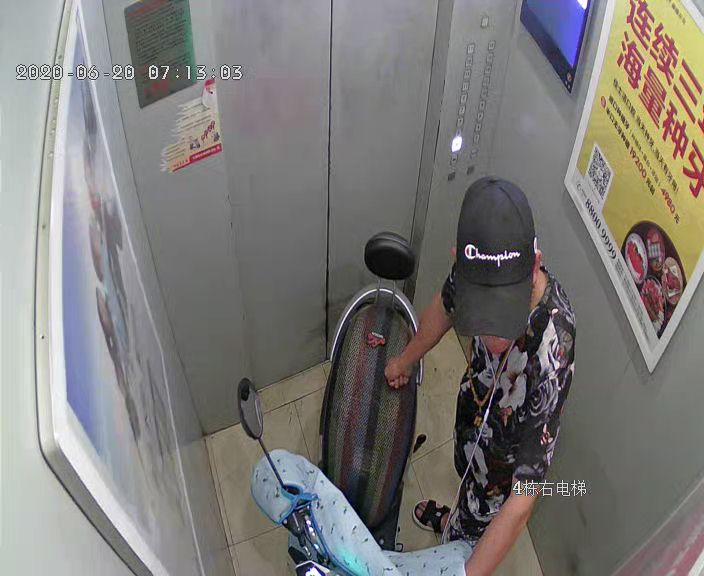Electric-bicycle: (238, 228, 424, 576)
